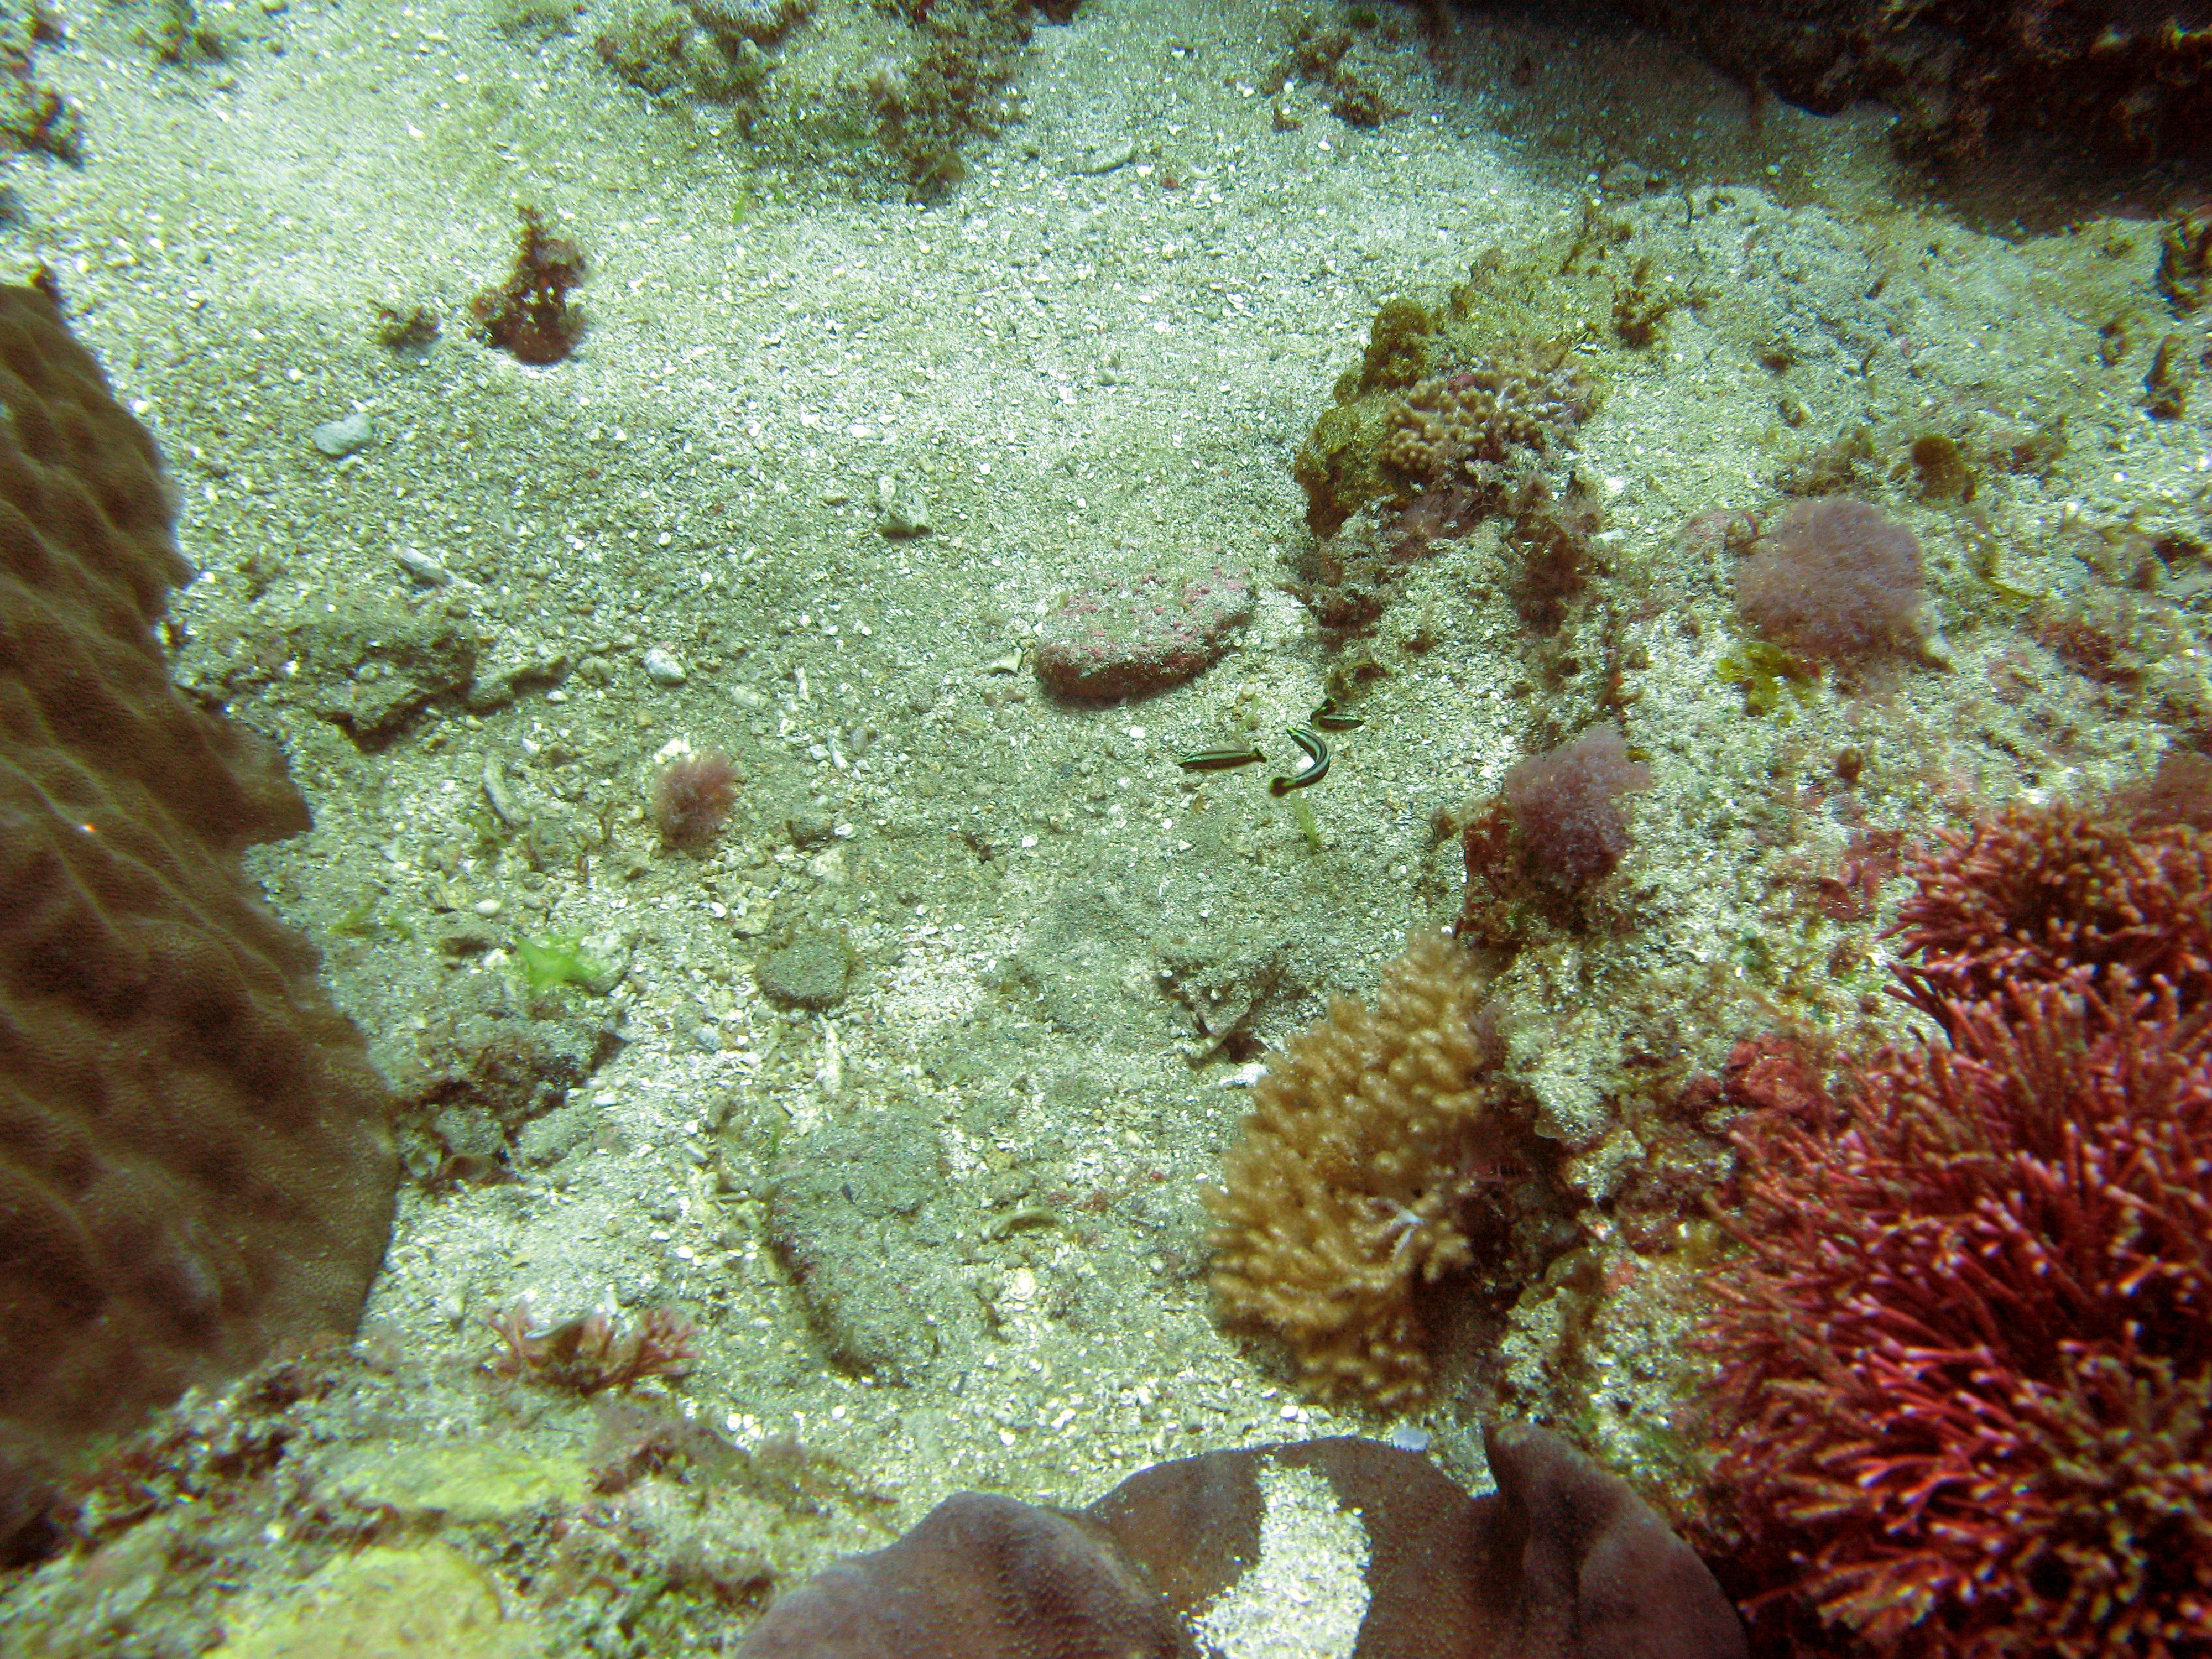Fish: (1268, 723, 1334, 807), (1162, 741, 1266, 786), (1305, 687, 1386, 737)
